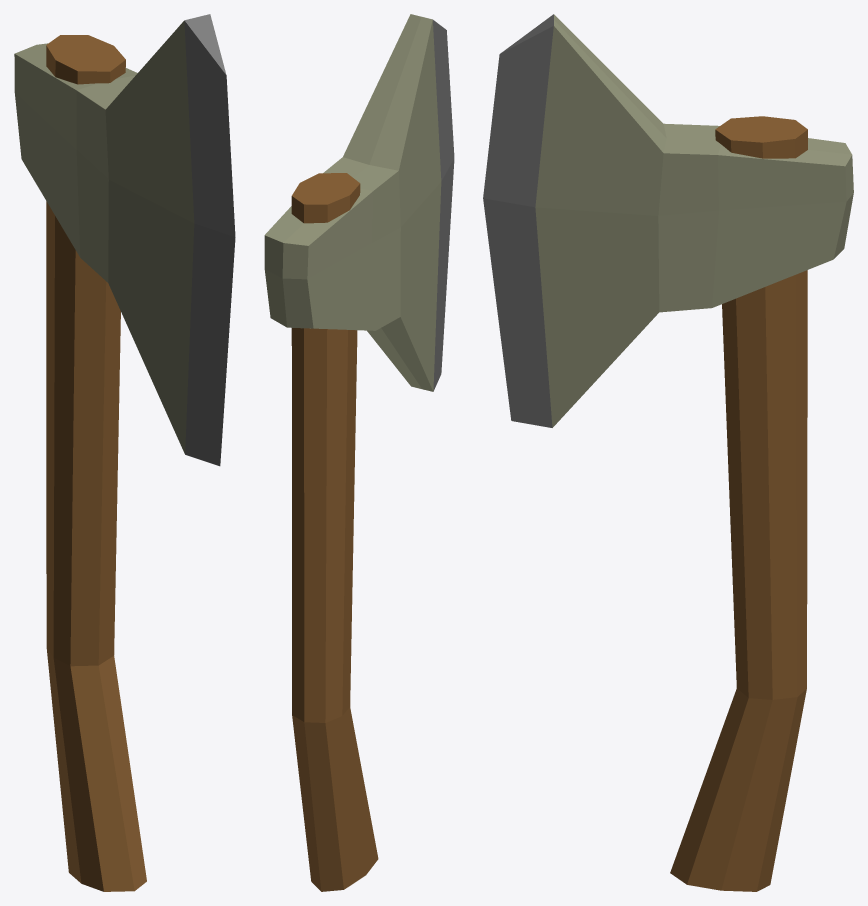
File: Axe37.glb
3 renders of one model, left to right at view 1: azimuth 30°, elevation 25°; view 2: azimuth 150°, elevation 25°; view 3: azimuth 270°, elevation 25°, orthographic. The views are drawn at different scales.
Visible parts, largest first — view 1: weapon_generator; view 2: weapon_generator; view 3: weapon_generator.
Part boxes in pixels (box(x1,y1,x2,y2)): weapon_generator: box(14, 14, 235, 891); weapon_generator: box(264, 14, 454, 891); weapon_generator: box(483, 14, 853, 891).
Size of the model in its own units: 0.0753 by 1.03 by 0.3997.
